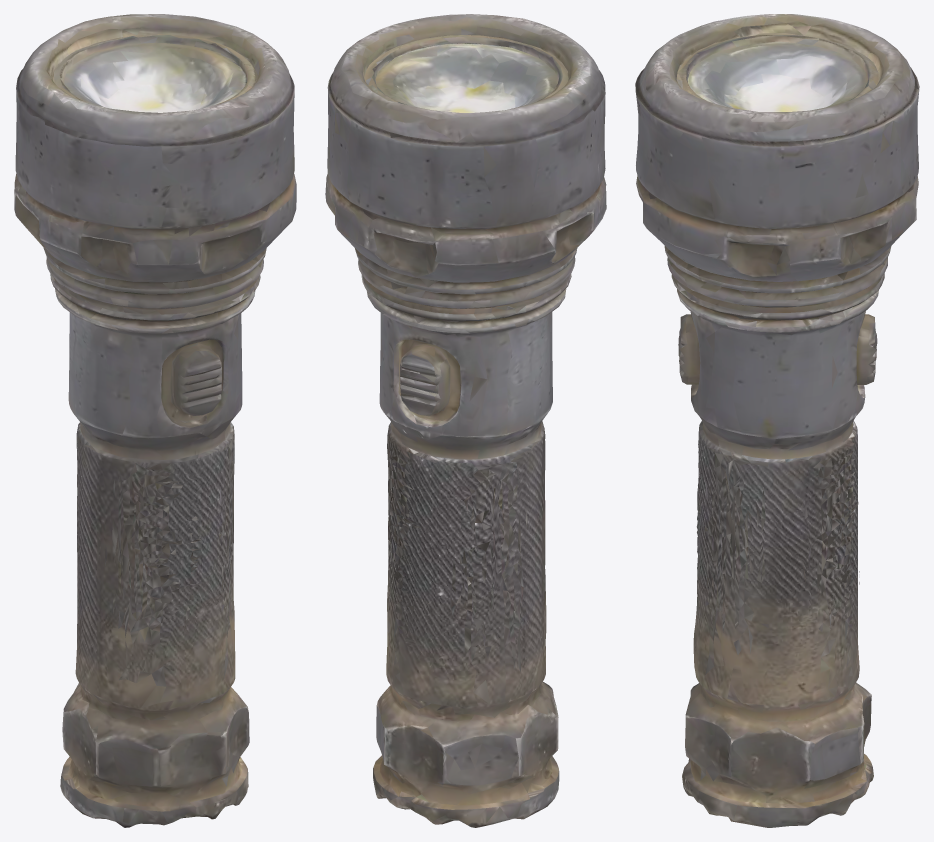
Rendered from M04b_Flashlight.glb.
3 views of the same model, side by side, from view 1: azimuth 30°, elevation 25°; view 2: azimuth 150°, elevation 25°; view 3: azimuth 270°, elevation 25° (orthographic).
Parts seen in each view (by area): view 1: geometry_0; view 2: geometry_0; view 3: geometry_0.
Boxes of the visible parts, <box> form: geometry_0: <box>14,14,296,827</box>; geometry_0: <box>325,14,606,827</box>; geometry_0: <box>635,14,919,827</box>.
Bounding box in the file's own units: 0.1051 × 0.3002 × 0.1061.
Materials: 1 (1 with a texture image).
